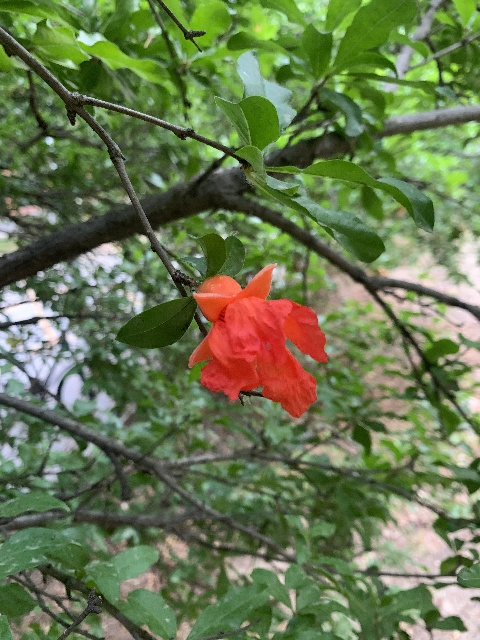flower: (188, 263, 328, 417)
